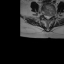CCS_normal: (47, 13, 48, 21)
LFS_normal: (50, 13, 52, 19)
LLS_normal: (48, 13, 50, 20)
RFS_normal: (43, 12, 45, 18)
RLS_normal: (45, 13, 47, 20)
